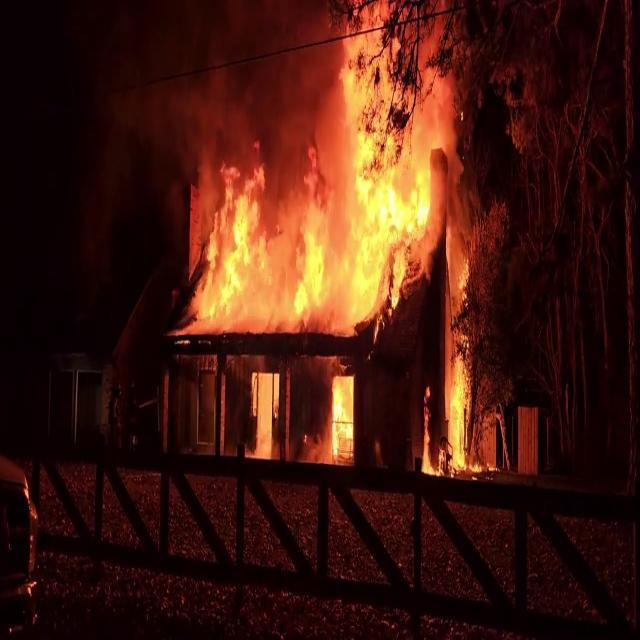Fire: (183, 145, 350, 340), (354, 78, 424, 326), (444, 350, 476, 488), (327, 381, 352, 468)
Smoke: (108, 0, 341, 231)
